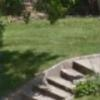stairs: (12, 54, 100, 100)
